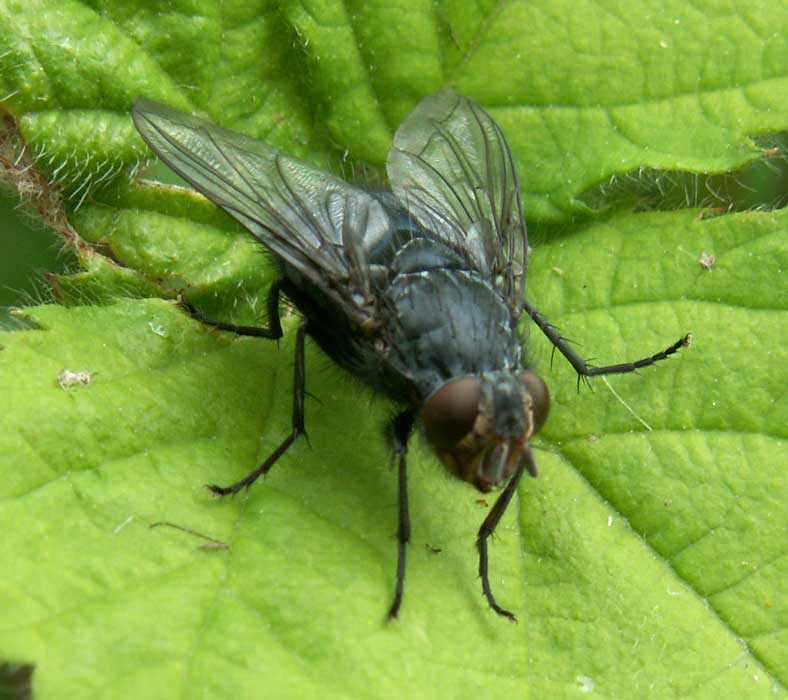green bottles fly: (111, 68, 706, 646)
